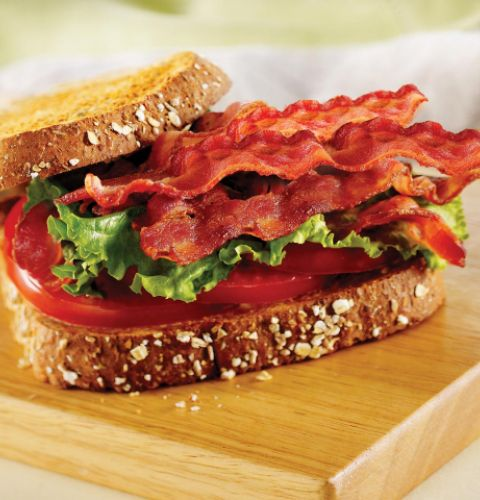bacon: (106, 75, 450, 265)
